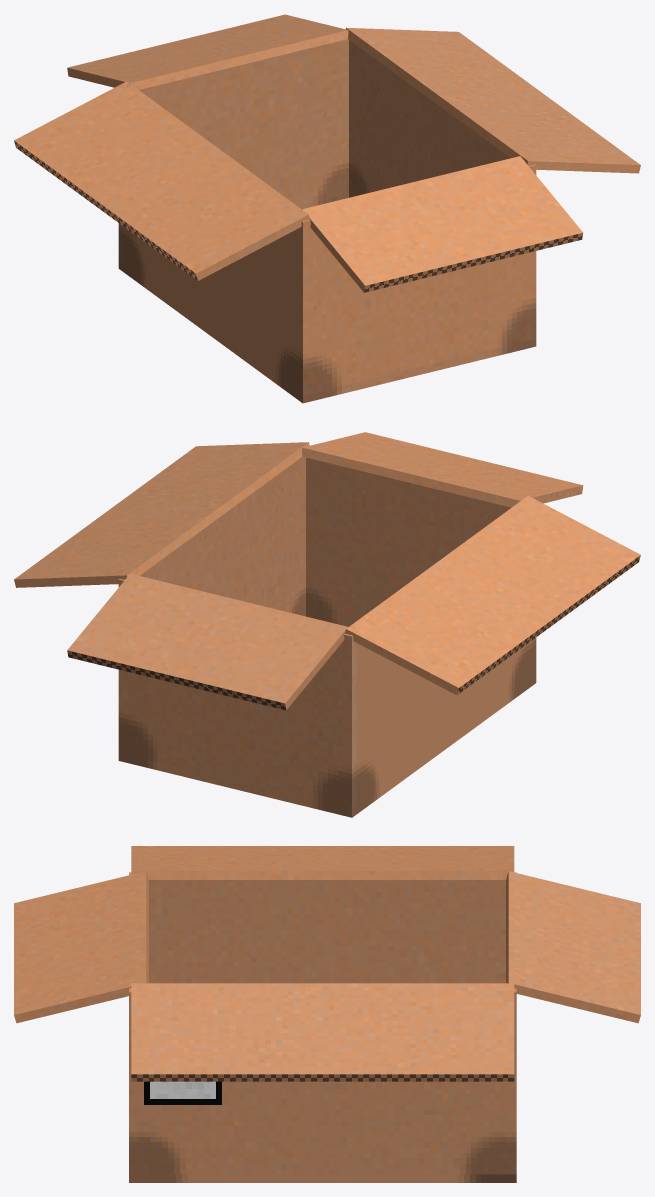
File: cardboard.glb
3 views of the same model, one above another, from view 1: azimuth 30°, elevation 25°; view 2: azimuth 150°, elevation 25°; view 3: azimuth 270°, elevation 25° (orthographic). The views are drawn at different scales.
Parts seen in each view (by area): view 1: cube_4, cube_11, cube_0, cube_10, cube_6, cube_9, cube_8, cube_2, cube_12; view 2: cube_4, cube_10, cube_2, cube_11, cube_6, cube_8, cube_9, cube_0, cube_12; view 3: cube_6, cube_9, cube_8, cube_2, cube_0, cube_4, cube_12, cube_11, cube_10.
Boxes of the visible parts, x1,y1,x2,y2 form: cube_4: (14, 81, 309, 280); cube_11: (298, 164, 536, 395); cube_0: (302, 156, 582, 292); cube_10: (118, 39, 348, 263); cube_6: (346, 27, 640, 173); cube_9: (123, 226, 298, 391); cube_8: (349, 40, 510, 197); cube_2: (67, 14, 348, 89); cube_12: (118, 261, 536, 403); cube_4: (345, 495, 640, 695); cube_10: (118, 579, 356, 809); cube_2: (67, 573, 347, 710); cube_11: (306, 457, 536, 677); cube_6: (14, 442, 309, 587); cube_8: (140, 456, 305, 616); cube_9: (356, 641, 531, 805); cube_0: (302, 432, 583, 507); cube_12: (118, 675, 536, 817); cube_6: (131, 983, 514, 1081); cube_9: (149, 880, 505, 983); cube_8: (138, 1081, 507, 1174); cube_2: (506, 871, 640, 1023); cube_0: (14, 871, 148, 1023); cube_4: (131, 846, 514, 879); cube_12: (129, 1174, 516, 1182); cube_11: (129, 872, 138, 1174); cube_10: (507, 872, 516, 1174).
Bounding box in the file's own units: 1.43 × 0.5718 × 1.66.
Materials: 1 (1 with a texture image).
